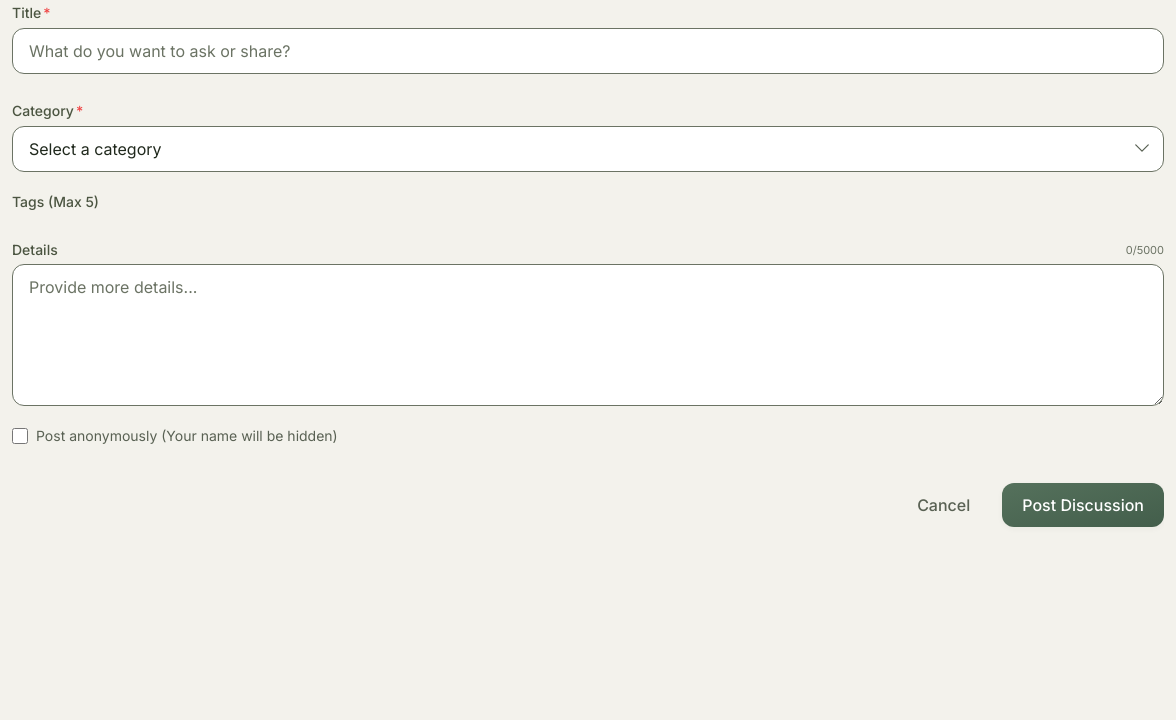
it: ThreadComposer.vue limits › shows the live details character count
Type "hello" into the text box labelled "Details".
click(588, 335); type("hello")  # box [12,264,1164,406]
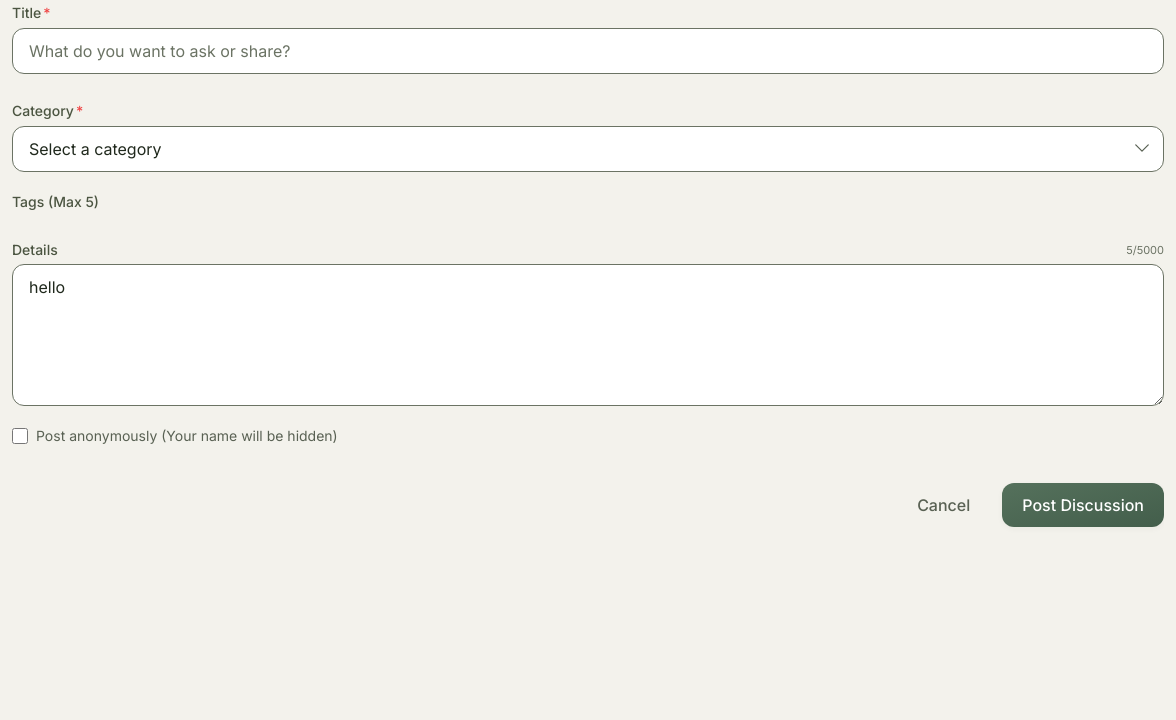
Expected: the text "5/5000" is shown, [1126,242,1164,258]
